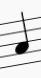note: (13, 9, 30, 69)
